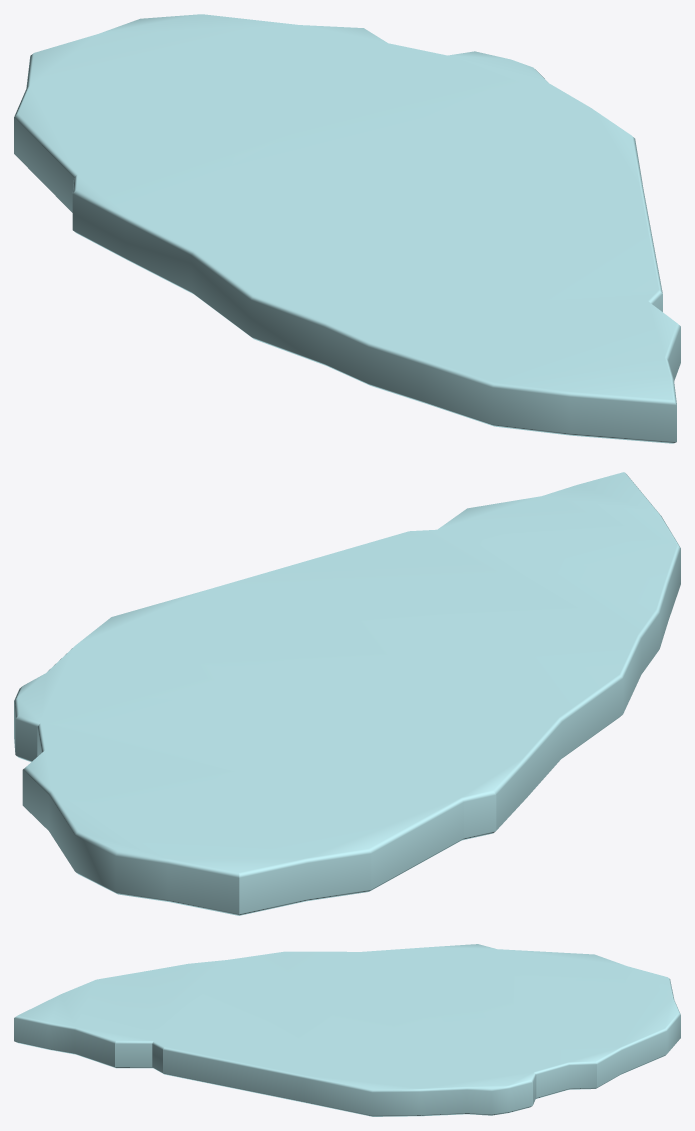
Rendered from ice_floe_large_006.fbx.
3 renders of one model, top to bottom at view 1: azimuth 30°, elevation 25°; view 2: azimuth 150°, elevation 25°; view 3: azimuth 270°, elevation 25°, orthographic. The views are drawn at different scales.
Visible parts, largest first — view 1: ice_floe_large_006; view 2: ice_floe_large_006; view 3: ice_floe_large_006.
Part boxes in pixels (x1,y1,x2,y2): ice_floe_large_006: (14, 14, 680, 443); ice_floe_large_006: (14, 472, 680, 915); ice_floe_large_006: (14, 944, 680, 1116).
Size of the model in its own units: 1131 by 2164 by 99.44.
